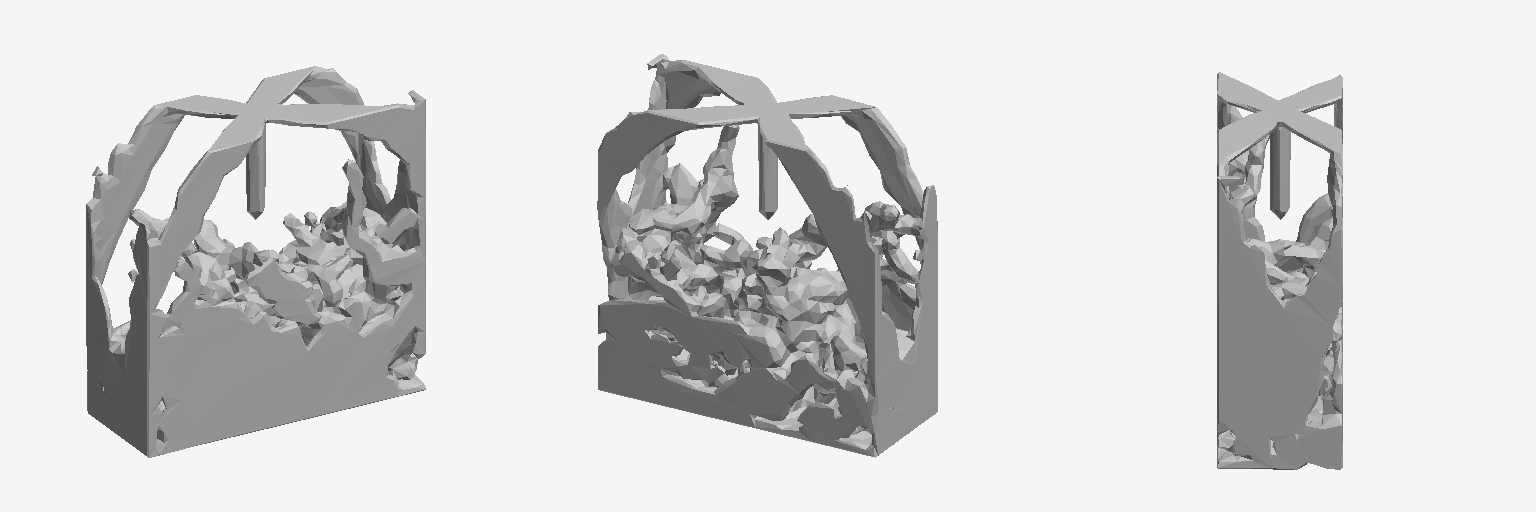
The picture shows the model from 3 angles: view 1: azimuth 30°, elevation 25°; view 2: azimuth 150°, elevation 25°; view 3: azimuth 270°, elevation 25°; orthographic projection.
Parts seen in each view (by area): view 1: Liquid_Domain; view 2: Liquid_Domain; view 3: Liquid_Domain.
Boxes of the visible parts, x1=… form: Liquid_Domain: x1=86, y1=66, x2=425, y2=457; Liquid_Domain: x1=597, y1=54, x2=937, y2=457; Liquid_Domain: x1=1217, y1=72, x2=1342, y2=469.
Bounding box in the file's own units: 884 × 885 × 345.